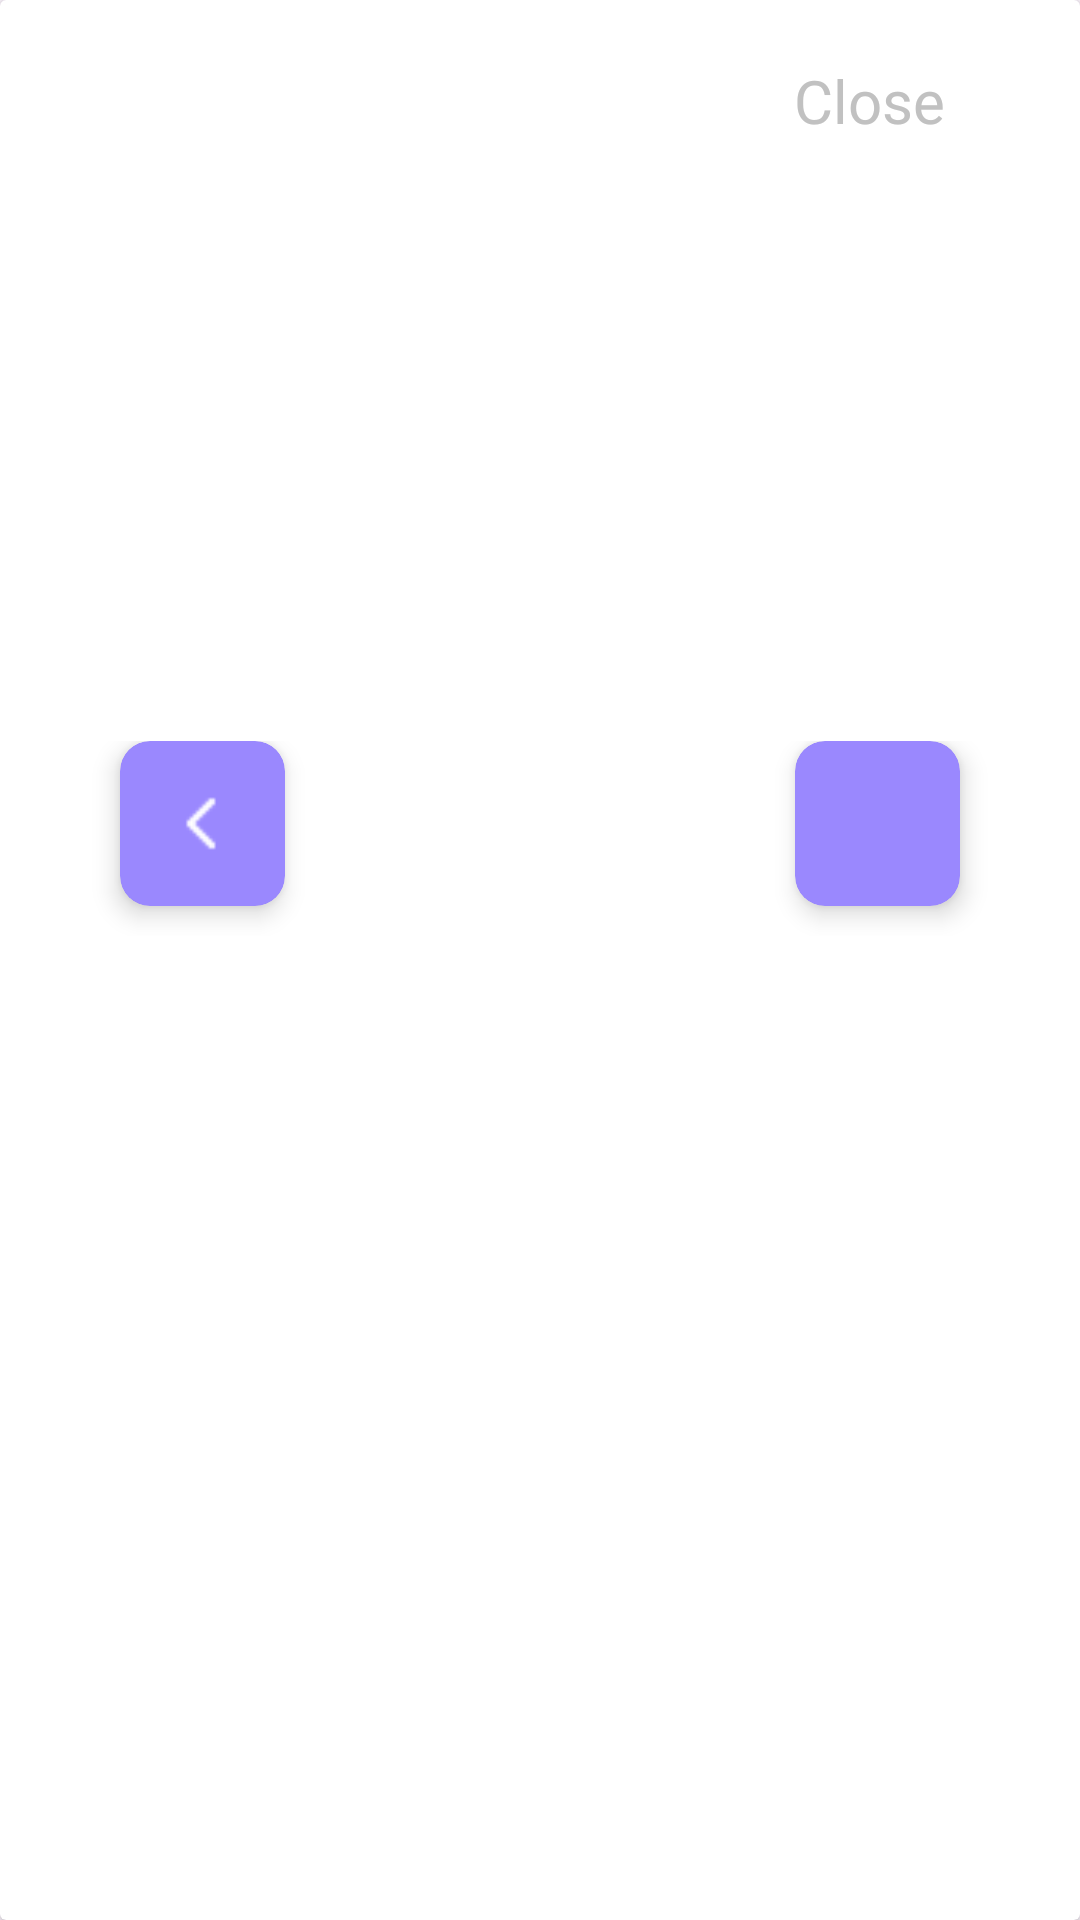

Point at icon controls on the screen. Image size 1080w x 1920h, points as (x=x, y=y).
chevronleft: (x=201, y=823)
